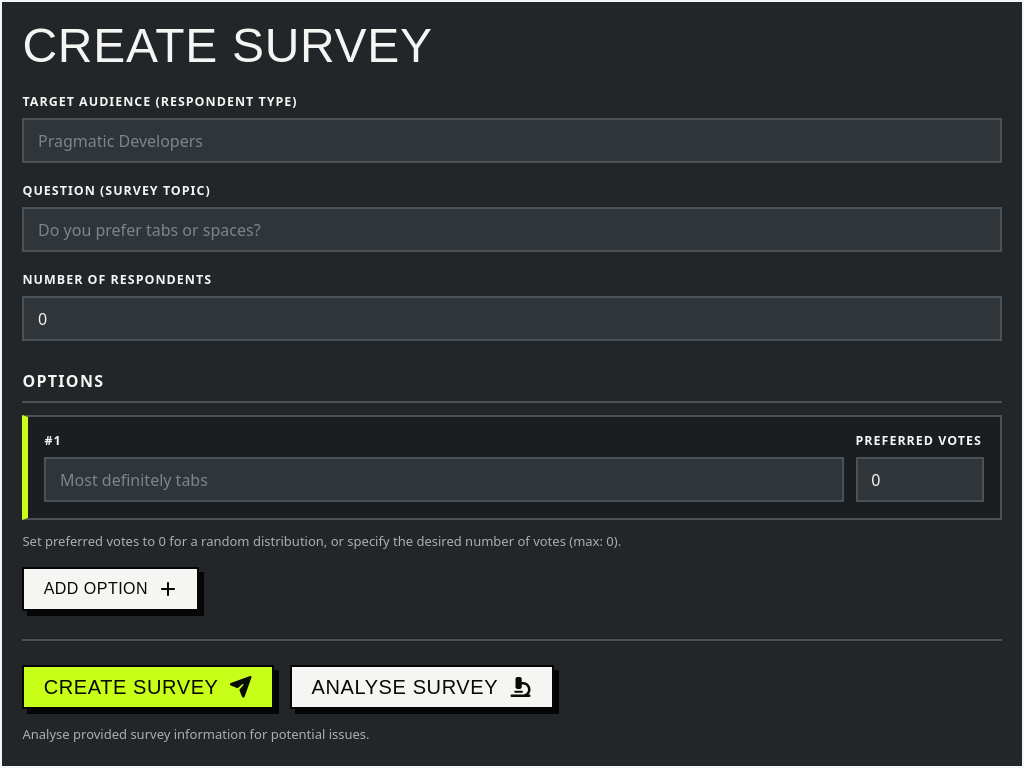
Scenario: CreateSurvey Component › Form Interactions › should keep option labels sequential after removing and adding options
Click the button "Add Option".
click(111, 589)  # box [22,567,199,611]
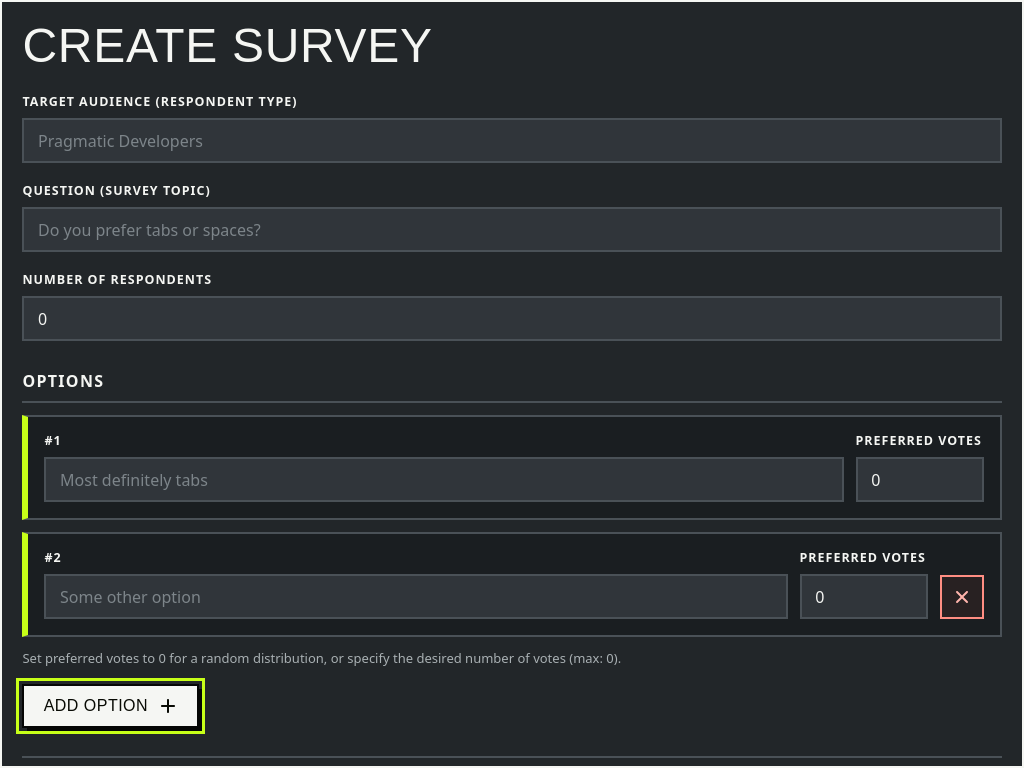
Now the button named "Remove #2" is shown
Click the button named "Remove #2".
click(962, 598)  # box [940,576,984,620]
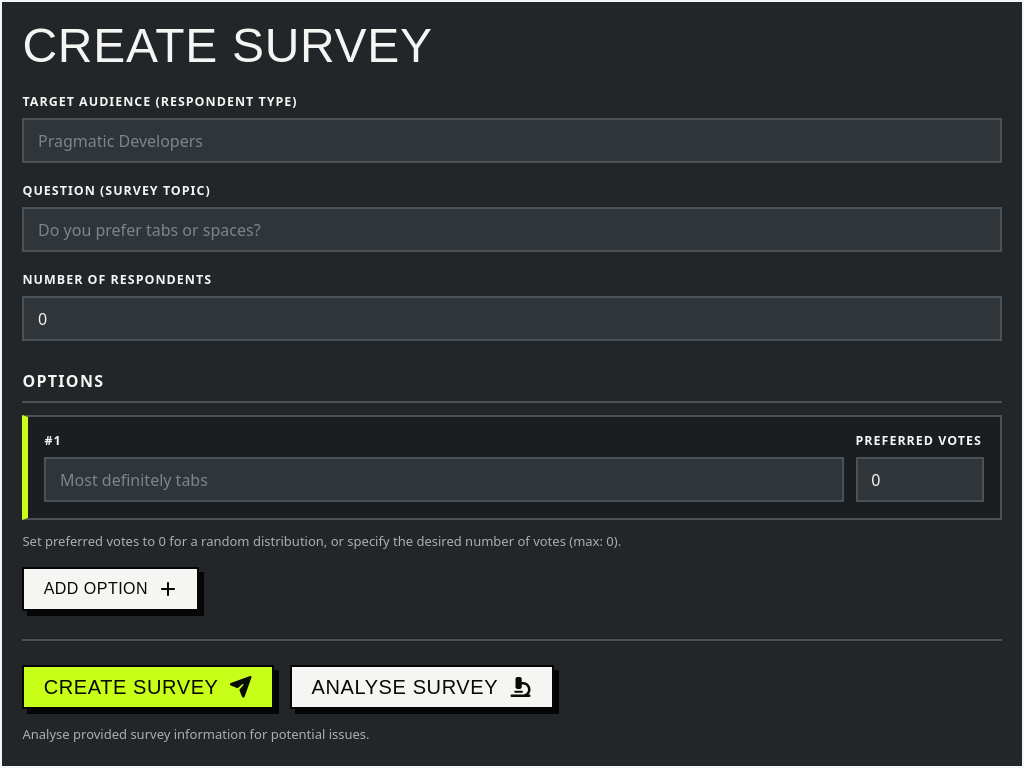
Click the button "Add Option".
click(111, 589)  # box [22,567,199,611]
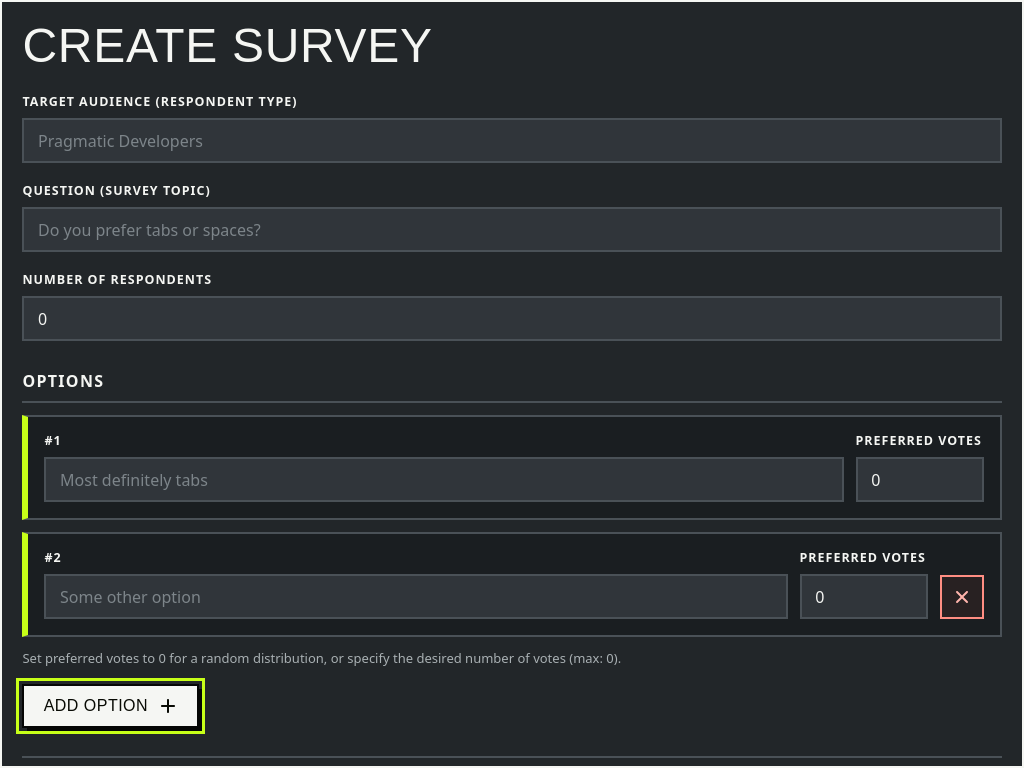
Now the text "#2" is shown, box [44,550,62,566]
Now the button named "Remove #2" is shown, box [940,576,984,620]
